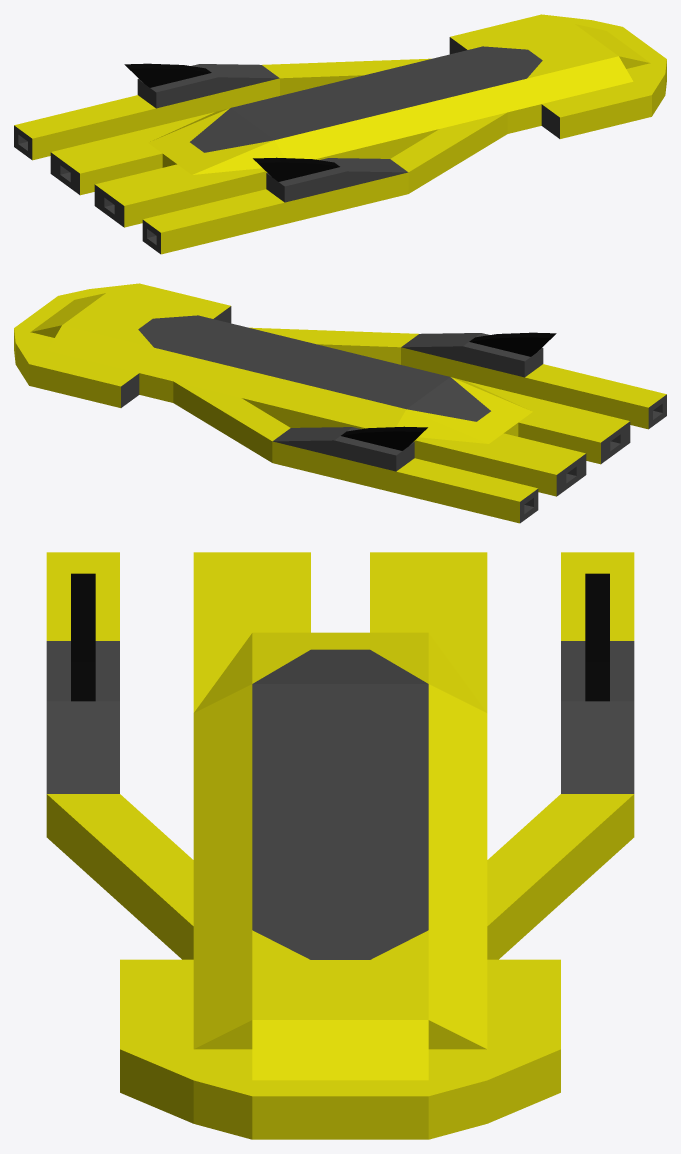
File: Hoverboard8.fbx
3 views of the same model, one above another, from view 1: azimuth 30°, elevation 25°; view 2: azimuth 150°, elevation 25°; view 3: azimuth 270°, elevation 25° (orthographic). The views are drawn at different scales.
Visible parts, largest first — view 1: Hoverboard 9; view 2: Hoverboard 9; view 3: Hoverboard 9.
Part boxes in pixels (box(x1,y1,x2,y2)): Hoverboard 9: box(14, 14, 666, 254); Hoverboard 9: box(14, 283, 666, 523); Hoverboard 9: box(46, 552, 634, 1139).
Bounding box in the file's own units: 693 × 73.28 × 316.
